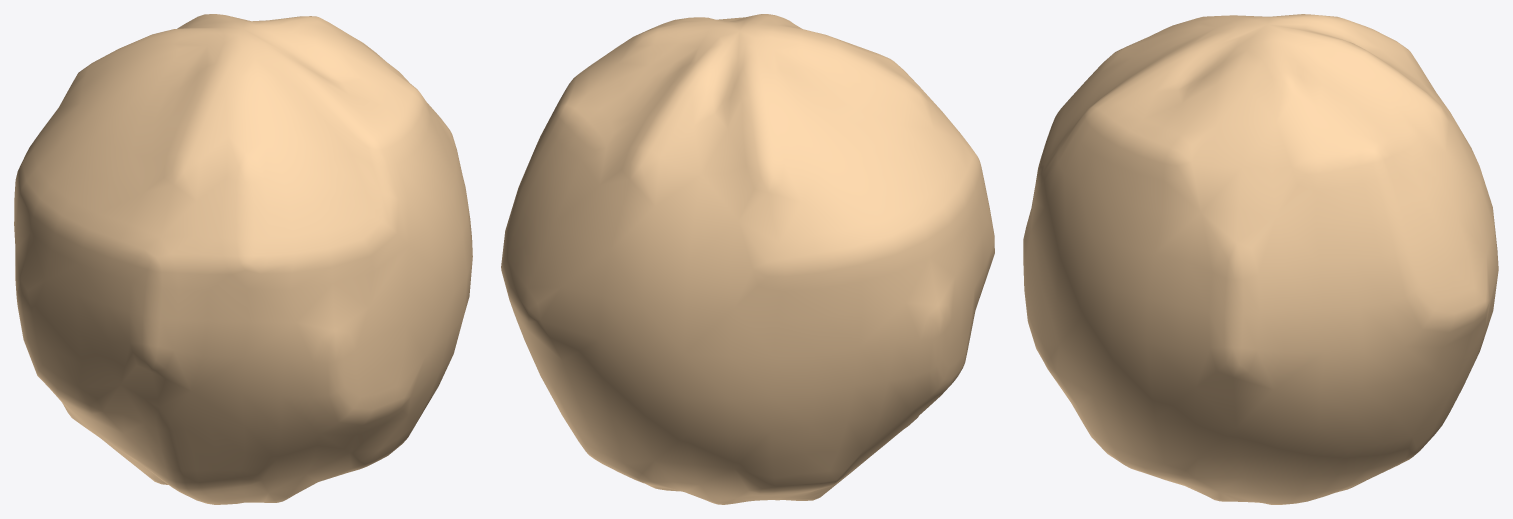
Rendered from PROP_Ball_v0.glb.
3 views of the same model, side by side, from view 1: azimuth 30°, elevation 25°; view 2: azimuth 150°, elevation 25°; view 3: azimuth 270°, elevation 25° (orthographic). The views are drawn at different scales.
Visible parts, largest first — view 1: PROP_Ball_v0; view 2: PROP_Ball_v0; view 3: PROP_Ball_v0.
Part boxes in pixels (<box>): PROP_Ball_v0: <box>14,14,472,504</box>; PROP_Ball_v0: <box>501,14,994,504</box>; PROP_Ball_v0: <box>1023,14,1498,504</box>.
Bounding box in the file's own units: 0.6501 × 0.6703 × 0.6233.
